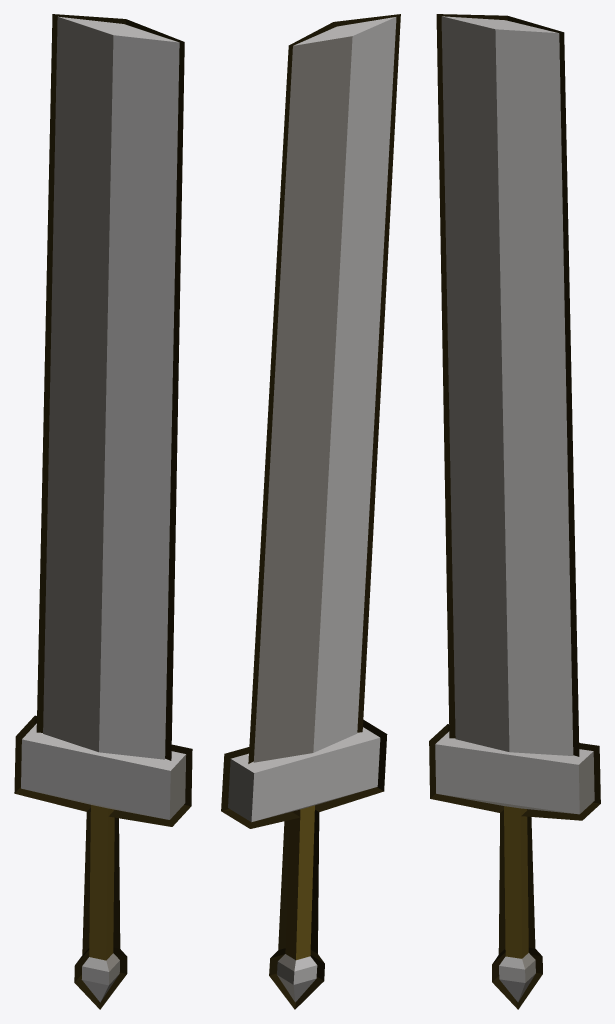
File: 2Hand-Sword.FBX
The picture shows the model from 3 angles, left to right: view 1: azimuth 90°, elevation 25°; view 2: azimuth 150°, elevation 25°; view 3: azimuth 270°, elevation 25°; orthographic projection. The views are drawn at different scales.
Visible parts, largest first — view 1: 2Hand-Sword; view 2: 2Hand-Sword; view 3: 2Hand-Sword.
Boxes of the visible parts, box(x1,y1,x2,y2) form: 2Hand-Sword: box(14, 14, 192, 1009); 2Hand-Sword: box(221, 14, 400, 1009); 2Hand-Sword: box(429, 14, 600, 1009).
Bounding box in the file's own units: 32.27 × 287 × 46.18.
